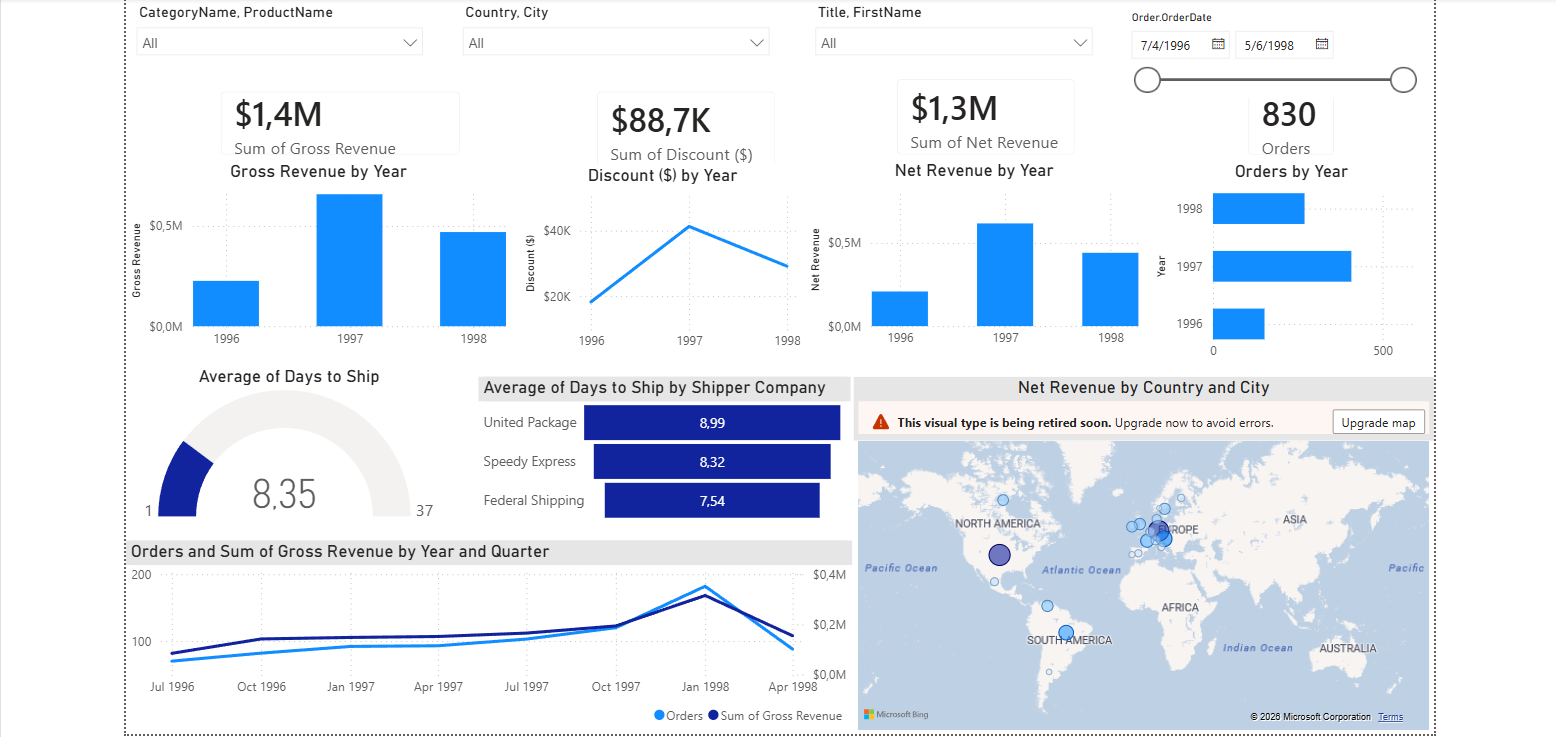

Layout of this report page (visuals, bound fields, positions):
{"tool":"powerbi","page":{"name":"Dashboard 1","canvas":[1280,720],"ordinal":0},"visuals":[{"type":"slicer","fields":{"Values":["Order_Details.Order.Employee.Title","Order_Details.Order.Employee.FirstName"]},"box":[664.3,0,292,62.4],"z":0},{"type":"slicer","fields":{"Values":["Categories.CategoryName","Categories.Products.ProductName"]},"box":[0,0,300.4,74],"z":1000},{"type":"slicer","fields":{"Values":["Order_Details.Order.Customer.Country","Order_Details.Order.Customer.City"]},"box":[319.5,0,320.5,62.4],"z":2000},{"type":"cardVisual","fields":{"Data":["Sum(Order_Details.Gross Revenue)"]},"box":[76.1,74.3,268.7,96.7],"z":3000},{"type":"clusteredColumnChart","title":"Gross Revenue by Year","fields":{"Y":["Sum(Order_Details.Gross Revenue)"],"Category":["Order_Details.Order.OrderDate.Variation.Date Hierarchy.Year"]},"box":[0,159.2,376.9,192.3],"z":4000},{"type":"cardVisual","fields":{"Data":["Sum(Order_Details.Discount ($))"]},"box":[444.2,74.3,208.7,108.4],"z":5000},{"type":"lineChart","title":"Discount ($) by Year","fields":{"Y":["Sum(Order_Details.Discount ($))"],"Category":["Order_Details.Order.OrderDate.Variation.Date Hierarchy.Year"]},"box":[384.7,162.5,279.7,191.2],"z":6000},{"type":"cardVisual","fields":{"Data":["Sum(Order_Details.Net Revenue)"]},"box":[737.9,62.7,208.7,108.4],"z":7000},{"type":"clusteredColumnChart","title":"Net Revenue by Year","fields":{"Y":["Sum(Order_Details.Net Revenue)"],"Category":["Order_Details.Order.OrderDate.Variation.Date Hierarchy.Year"]},"box":[664.3,158.1,331.6,193.4],"z":8000},{"type":"cardVisual","fields":{"Data":["Order_Details.Orders"]},"box":[1080.9,74.3,118.2,96.7],"z":9000},{"type":"clusteredBarChart","fields":{"Y":["Order_Details.Orders"],"Category":["Order_Details.Order.OrderDate.Variation.Date Hierarchy.Year"]},"box":[1003,158.5,274.9,204.2],"z":10000},{"type":"gauge","title":"Average of Days to Ship","fields":{"Y":["Avg(Order_Details.Days to Ship)"],"MaxValue":["Max(Order_Details.Days to Ship)1"],"MinValue":["Min(Order_Details.Days to Ship)2"]},"box":[0,359.7,319.1,157.7],"z":11000},{"type":"funnel","title":"Average of Days to Ship by Shipper Company","fields":{"Y":["Avg(Order_Details.Days to Ship)"],"Category":["Order_Details.Order.Shipper.CompanyName"]},"box":[344.3,370.5,364.2,146.9],"z":12000},{"type":"map","title":"Net Revenue by Country and City","fields":{"Category":["Order_Details.Order.Customer.Country","Order_Details.Order.Customer.City"],"Size":["Sum(Order_Details.Net Revenue)"]},"box":[712.1,370.5,567.9,349.7],"z":13000},{"type":"lineChart","fields":{"Category":["Order_Details.Order.OrderDate.Variation.Date Hierarchy.Year","Order_Details.Order.OrderDate.Variation.Date Hierarchy.Quarter"],"Y2":["Sum(Order_Details.Gross Revenue)"],"Y":["Order_Details.Orders"]},"box":[0,530.9,710.3,189.3],"z":14000},{"type":"slicer","fields":{"Values":["Order_Details.Order.OrderDate"]},"box":[970.7,7.2,300,89.6],"z":15000}]}

Visuals, with their boxes on the page's 1280x720 design canvas (x1, y1, x2, y2). These are canvas units, not pixel positions in the 1556x737 screenshot, which may show the page scaled, cropped or inside an application window:
slicer - Order_Details.Order.Employee.Title x Order_Details.Order.Employee.FirstName: (664,0,956,62)
slicer - Categories.CategoryName x Categories.Products.ProductName: (0,0,300,74)
slicer - Order_Details.Order.Customer.Country x Order_Details.Order.Customer.City: (320,0,640,62)
cardVisual - Sum(Order_Details.Gross Revenue): (76,74,345,171)
"Gross Revenue by Year" clusteredColumnChart: (0,159,377,352)
cardVisual - Sum(Order_Details.Discount ($)): (444,74,653,183)
"Discount ($) by Year" lineChart: (385,162,664,354)
cardVisual - Sum(Order_Details.Net Revenue): (738,63,947,171)
"Net Revenue by Year" clusteredColumnChart: (664,158,996,352)
cardVisual - Order_Details.Orders: (1081,74,1199,171)
clusteredBarChart - Order_Details.Orders x Order_Details.Order.OrderDate.Variation.Date Hierarchy.Year: (1003,158,1278,363)
"Average of Days to Ship" gauge: (0,360,319,517)
"Average of Days to Ship by Shipper Company" funnel: (344,370,708,517)
"Net Revenue by Country and City" map: (712,370,1280,720)
lineChart - Order_Details.Order.OrderDate.Variation.Date Hierarchy.Year x Order_Details.Order.OrderDate.Variation.Date Hierarchy.Quarter: (0,531,710,720)
slicer - Order_Details.Order.OrderDate: (971,7,1271,97)
